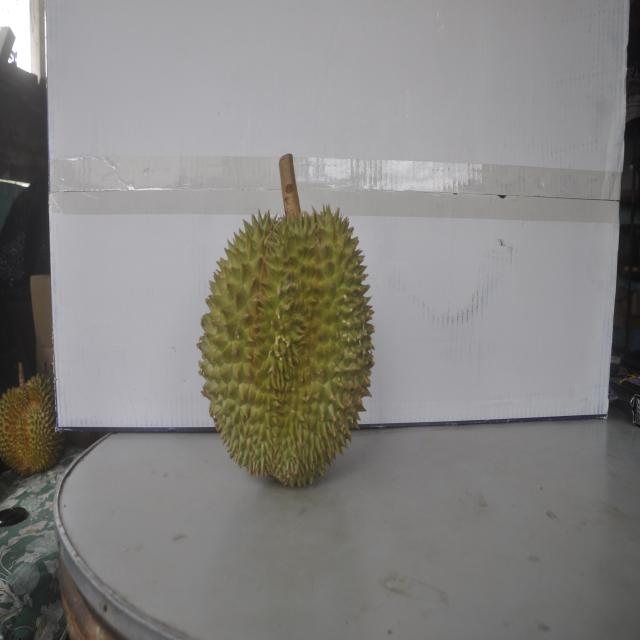mature: (198, 192, 375, 486), (1, 372, 64, 476)
